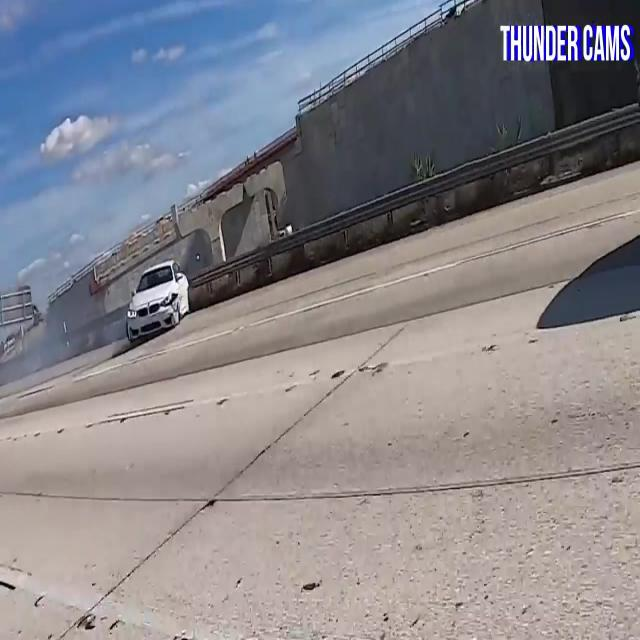accident: (103, 248, 216, 359)
